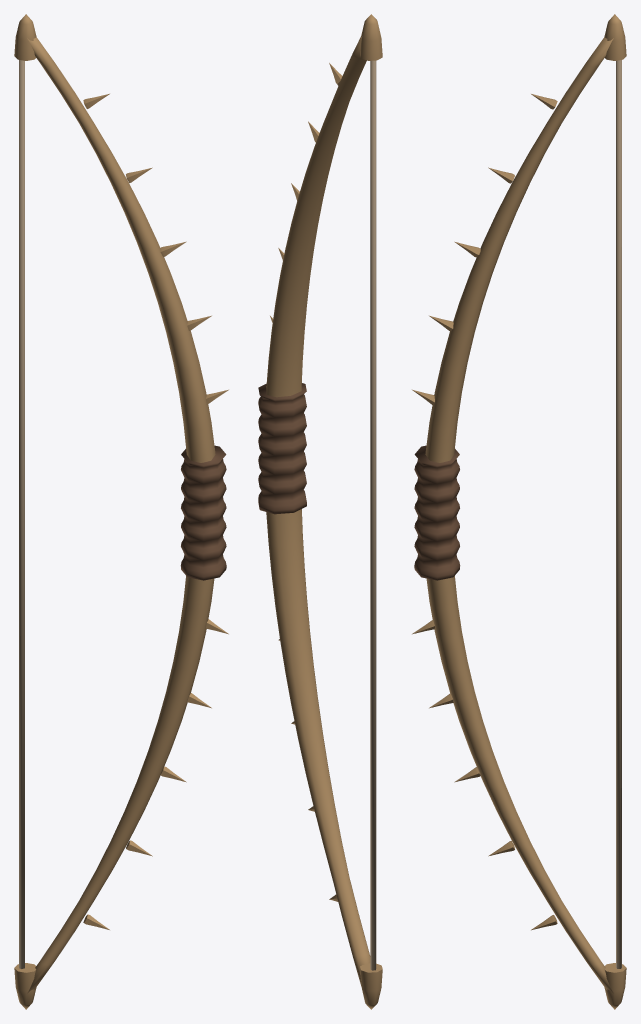
Rendered from thorn-bow.glb.
3 views of the same model, side by side, from view 1: azimuth 90°, elevation 25°; view 2: azimuth 210°, elevation 25°; view 3: azimuth 270°, elevation 25° (orthographic).
Visible parts, largest first — view 1: thorn-bow; view 2: thorn-bow; view 3: thorn-bow.
Boxes of the visible parts, bbox=[...] form: thorn-bow: bbox=[14, 14, 228, 1009]; thorn-bow: bbox=[258, 14, 382, 1009]; thorn-bow: bbox=[412, 14, 626, 1009].
Bounding box in the file's own units: 0.1259 × 2.6 × 0.5094.
